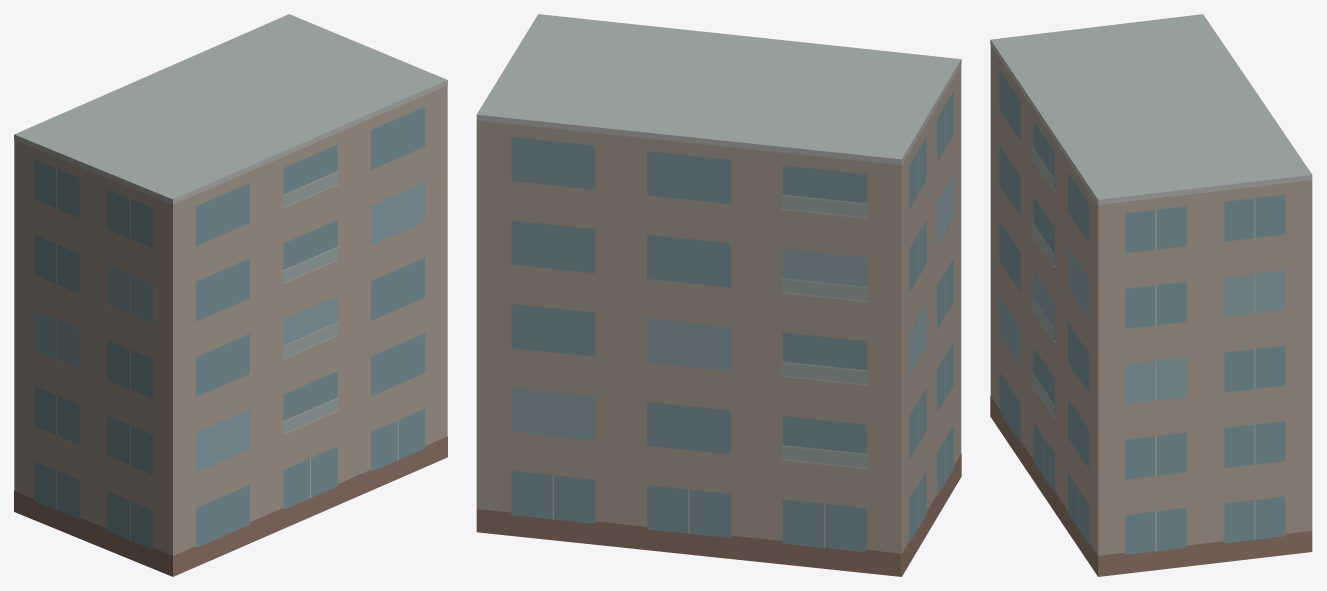
The model's file is survey-upis-32709728.glb.
3 renders of one model, left to right at view 1: azimuth 30°, elevation 25°; view 2: azimuth 150°, elevation 25°; view 3: azimuth 270°, elevation 25°, orthographic. The views are drawn at different scales.
Visible parts, largest first — view 1: survey-upis-32709728.tmp; view 2: survey-upis-32709728.tmp; view 3: survey-upis-32709728.tmp.
Part boxes in pixels (box(x1,y1,x2,y2)): survey-upis-32709728.tmp: box(14, 14, 447, 576); survey-upis-32709728.tmp: box(476, 14, 961, 576); survey-upis-32709728.tmp: box(990, 14, 1312, 576).
Size of the model in its own units: 18.19 by 17.2 by 13.31.
